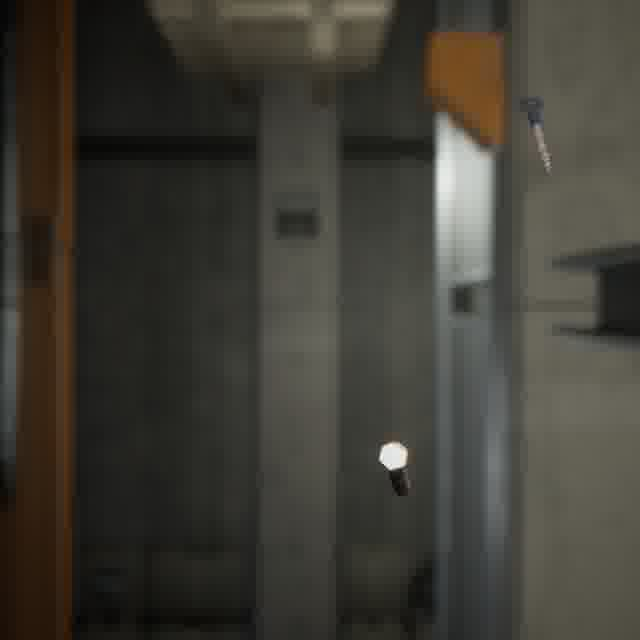bolt: (513, 88, 556, 176), (374, 436, 414, 501)
